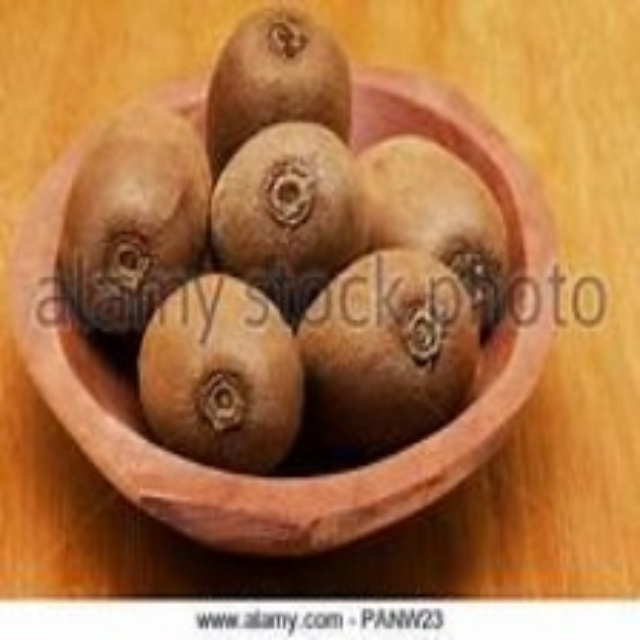kiwi: (44, 112, 247, 323), (141, 285, 317, 467), (303, 257, 472, 439), (209, 126, 371, 314), (341, 144, 522, 308), (205, 7, 360, 154)
